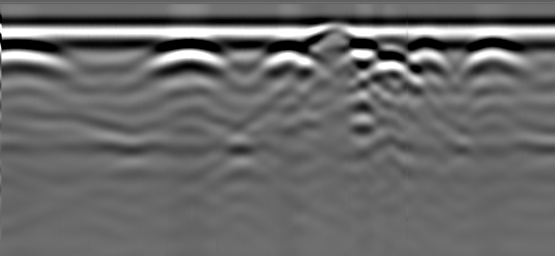pipe: (310, 25, 360, 43)
steel: (154, 42, 222, 75), (2, 44, 63, 75), (262, 43, 313, 73), (470, 41, 521, 68), (409, 41, 448, 72), (345, 40, 377, 67)
